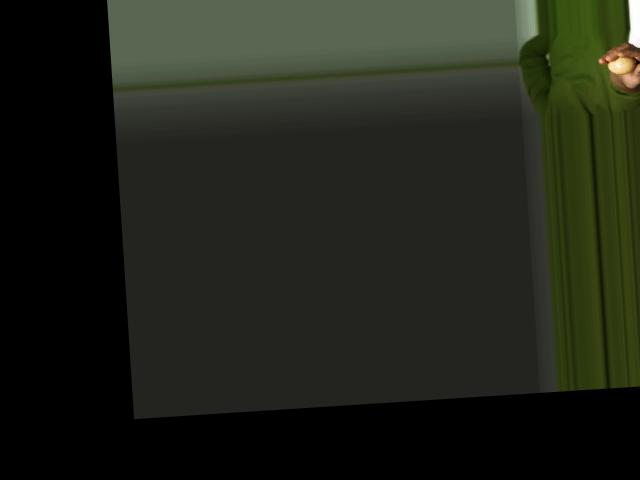egg: (606, 55, 636, 74)
